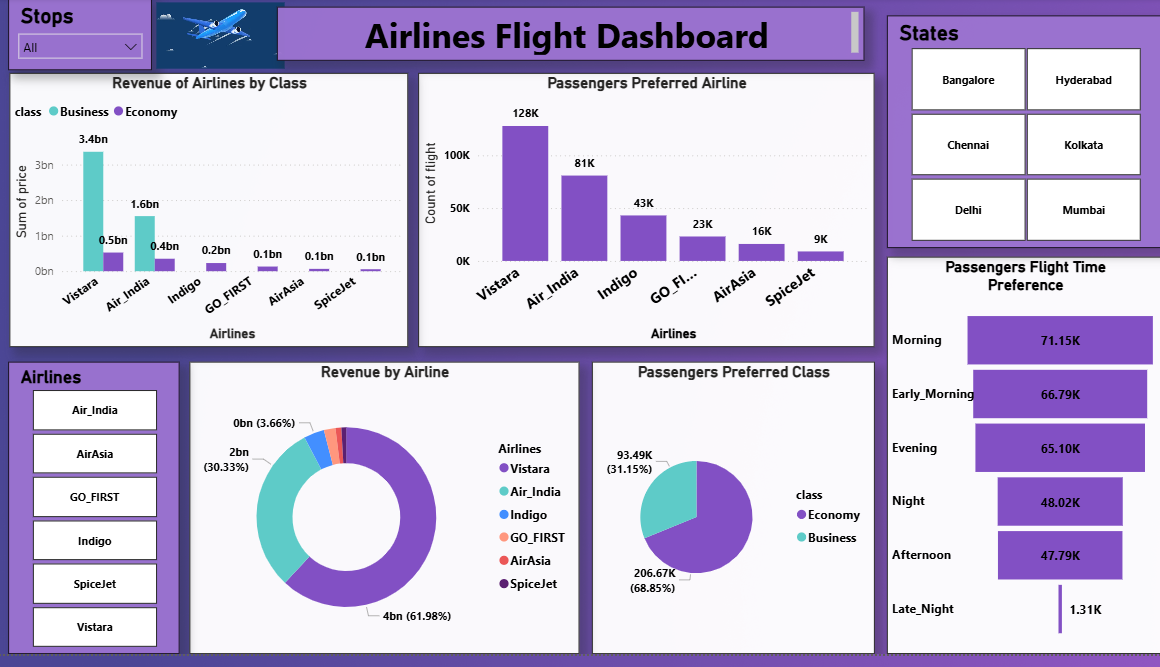

What the dashboard file says about the page in this screenshot:
{"tool":"powerbi","page":{"name":"Page 1","canvas":[1280,720],"ordinal":0},"visuals":[{"type":"columnChart","title":"Passengers Preferred Airline","fields":{"Category":["airlines_flights_data.airline"],"Y":["CountNonNull(airlines_flights_data.flight)"]},"box":[462.4,82.3,500.9,300.5],"z":0},{"type":"pieChart","title":"Passengers Preferred Class","fields":{"Category":["airlines_flights_data.class"],"Y":["CountNonNull(airlines_flights_data.class)"]},"box":[653.2,399.3,310.1,321.1],"z":1000},{"type":"donutChart","title":"Revenue by Airline","fields":{"Category":["airlines_flights_data.airline"],"Y":["Sum(airlines_flights_data.price)"]},"box":[211.3,399.3,428.1,321.1],"z":2000},{"type":"clusteredColumnChart","title":"Revenue of Airlines by Class","fields":{"Category":["airlines_flights_data.airline"],"Y":["Sum(airlines_flights_data.price)"],"Series":["airlines_flights_data.class"]},"box":[13.7,82.3,437.7,300.5],"z":3000},{"type":"slicer","fields":{"Values":["airlines_flights_data.airline"]},"box":[12.3,399.3,188,321.1],"z":4000},{"type":"funnel","title":"Passengers Flight Time Preference","fields":{"Category":["airlines_flights_data.departure_time"],"Y":["CountNonNull(airlines_flights_data.flight)"]},"box":[977,284,303.3,436.4],"z":5000},{"type":"slicer","fields":{"Values":["airlines_flights_data.stops"]},"box":[12.3,0,157.8,79.6],"z":6000},{"type":"slicer","fields":{"Values":["airlines_flights_data.source_city"]},"box":[977,19.2,303.3,255.2],"z":7000},{"type":"image","box":[170.2,0,150.9,82.3],"z":8000},{"type":"textbox","box":[307.4,9.6,644.9,59],"z":9000}]}

Visuals, with their boxes in screenshot pixels (x1, y1, x2, y2), scaled from the page's 1280x720 canvas onto the 1160x667 screenshot:
"Passengers Preferred Airline" columnChart: bbox=[419, 76, 873, 355]
"Passengers Preferred Class" pieChart: bbox=[592, 370, 873, 666]
"Revenue by Airline" donutChart: bbox=[191, 370, 579, 666]
"Revenue of Airlines by Class" clusteredColumnChart: bbox=[12, 76, 409, 355]
slicer - airlines_flights_data.airline: bbox=[11, 370, 182, 666]
"Passengers Flight Time Preference" funnel: bbox=[885, 263, 1159, 666]
slicer - airlines_flights_data.stops: bbox=[11, 0, 154, 74]
slicer - airlines_flights_data.source_city: bbox=[885, 18, 1159, 254]
image: bbox=[154, 0, 291, 76]
textbox: bbox=[279, 9, 863, 64]
